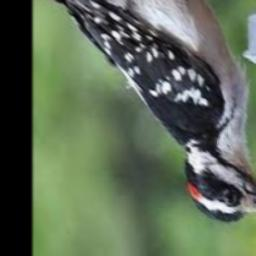Woodpecker: (33, 0, 256, 223)
